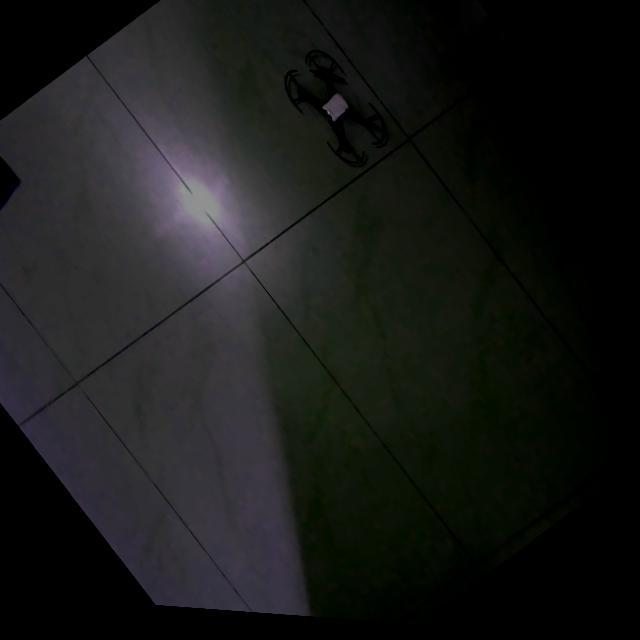drone: (287, 53, 389, 168)
